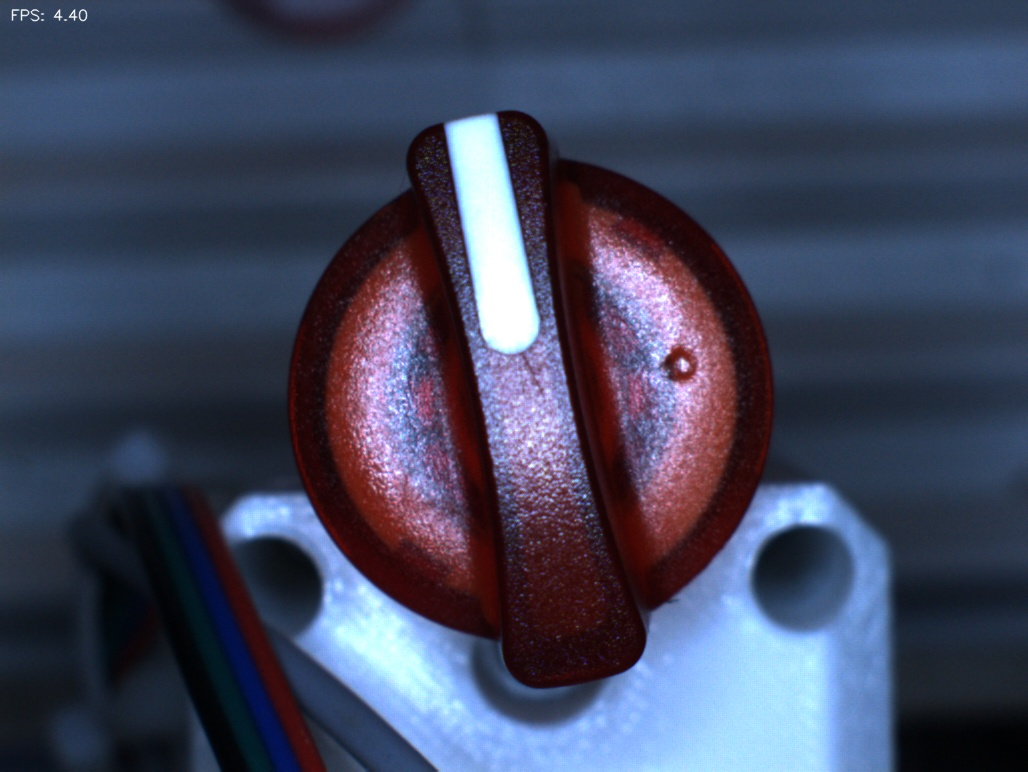Choc: (647, 325, 720, 398)
